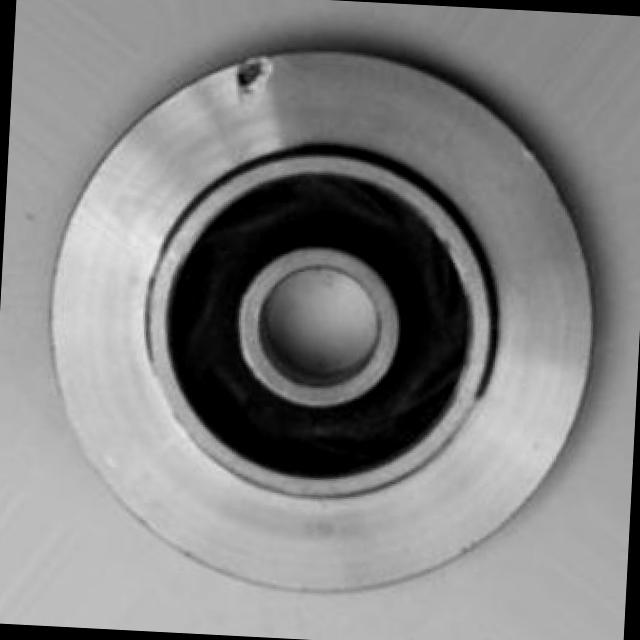Defect: (231, 54, 279, 100)
